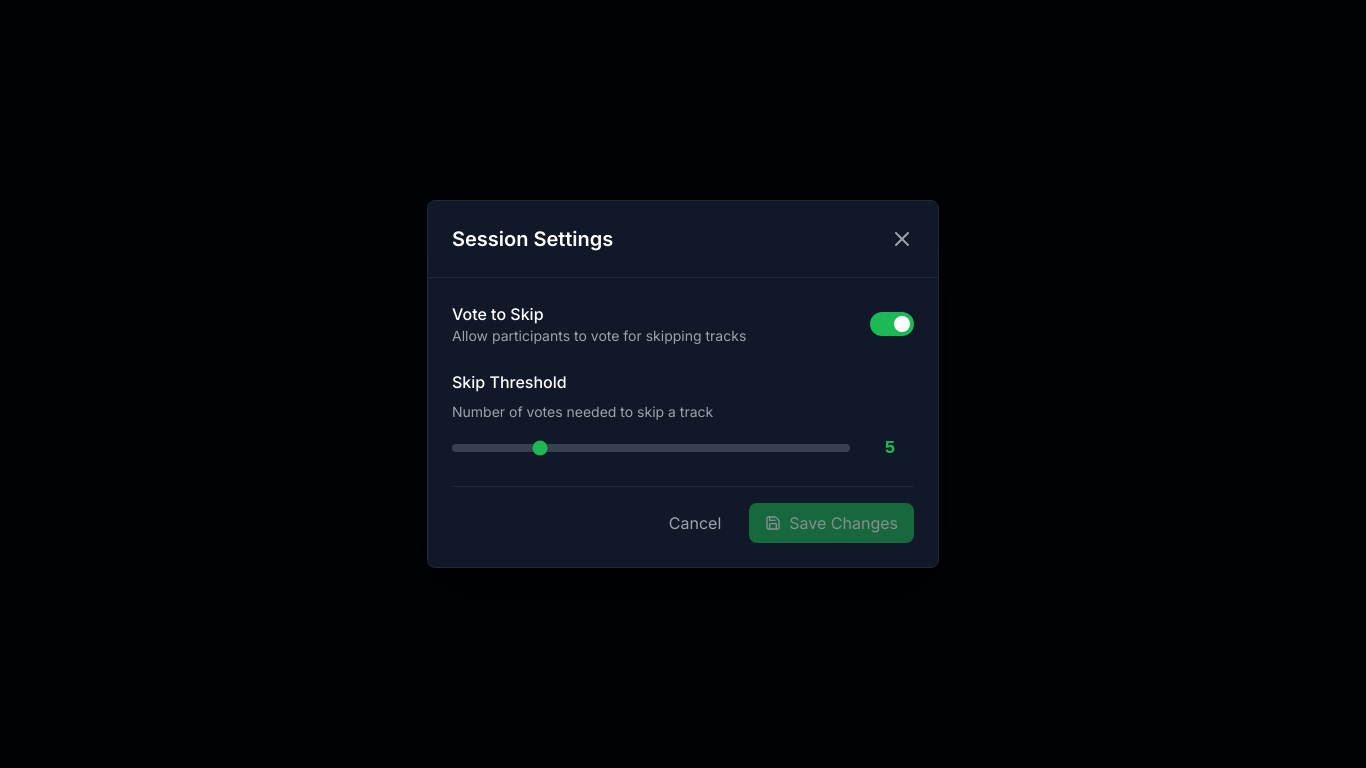
Test case: SessionSettingsModal › Vote to Skip Toggle › hides skip threshold when vote to skip is toggled off
The image size is (1366, 768).
Expected: the text "Skip Threshold" is shown, [452, 372, 567, 392]
Step 1. Click the checkbox → point(683, 324), box [452, 302, 914, 346]
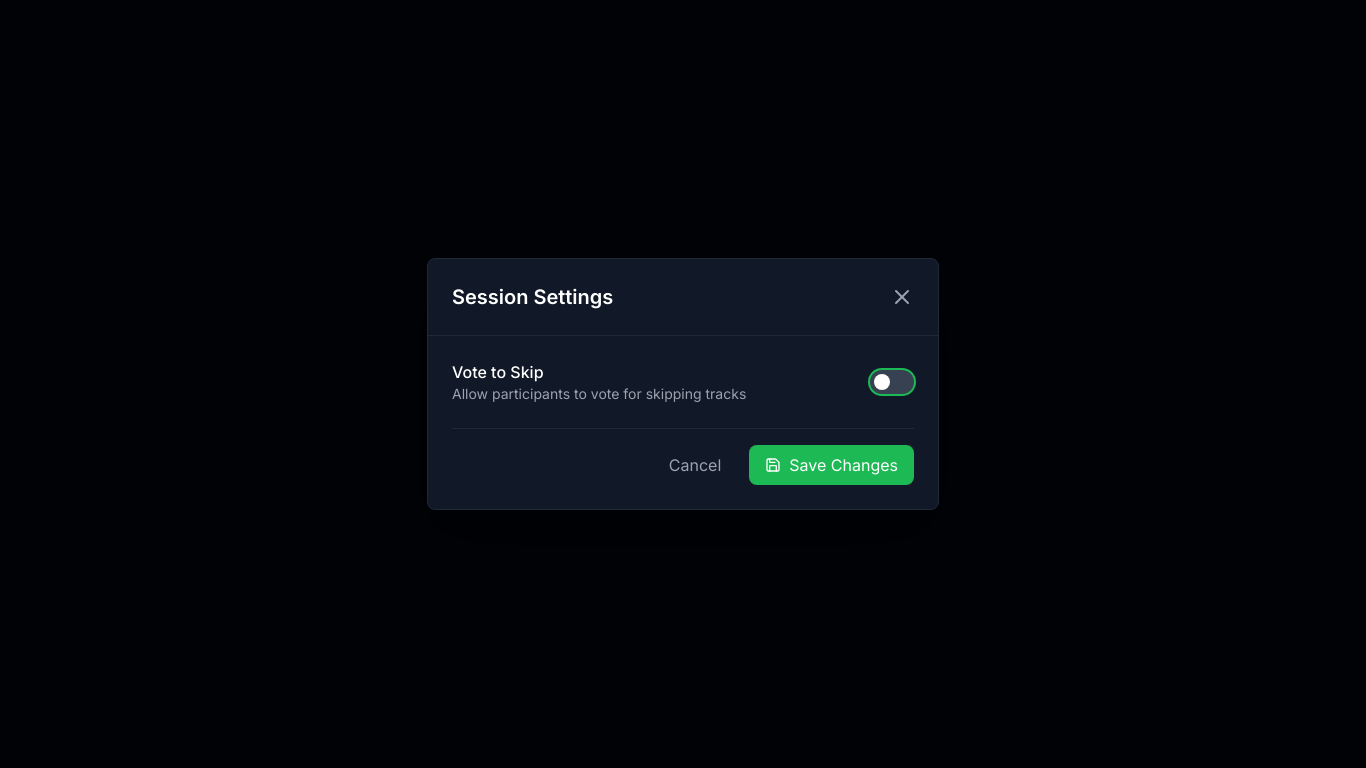
Result: the text "Skip Threshold" is gone
